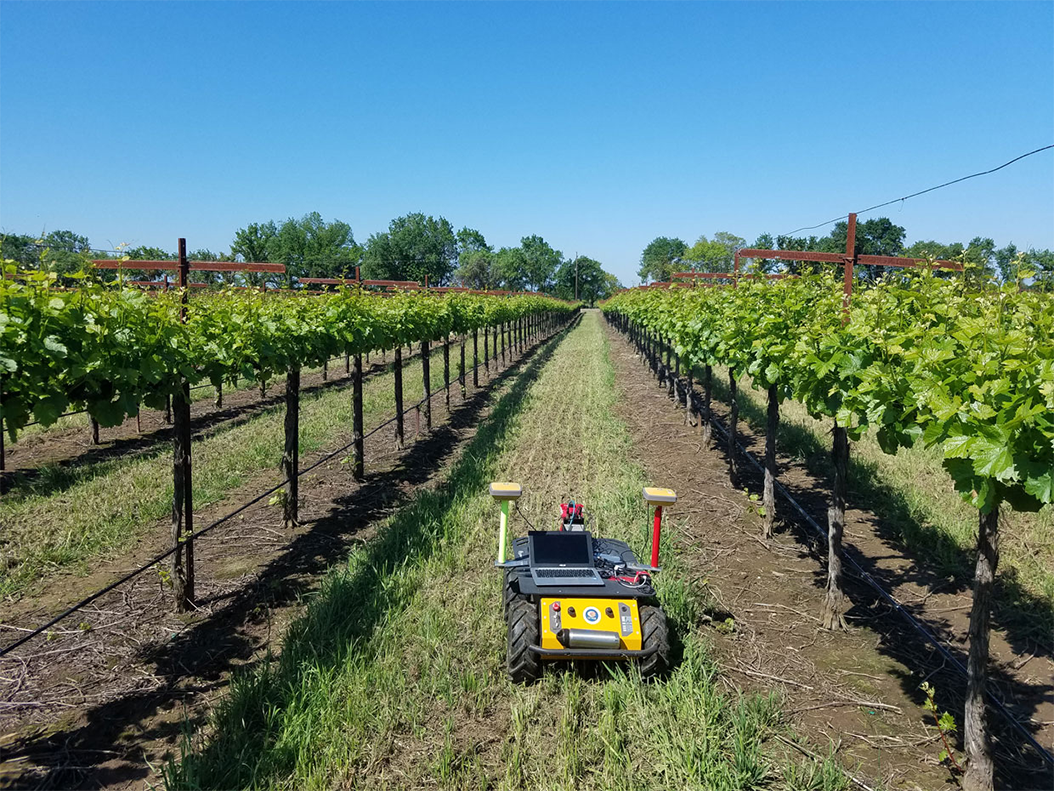husky: (503, 539, 668, 680)
